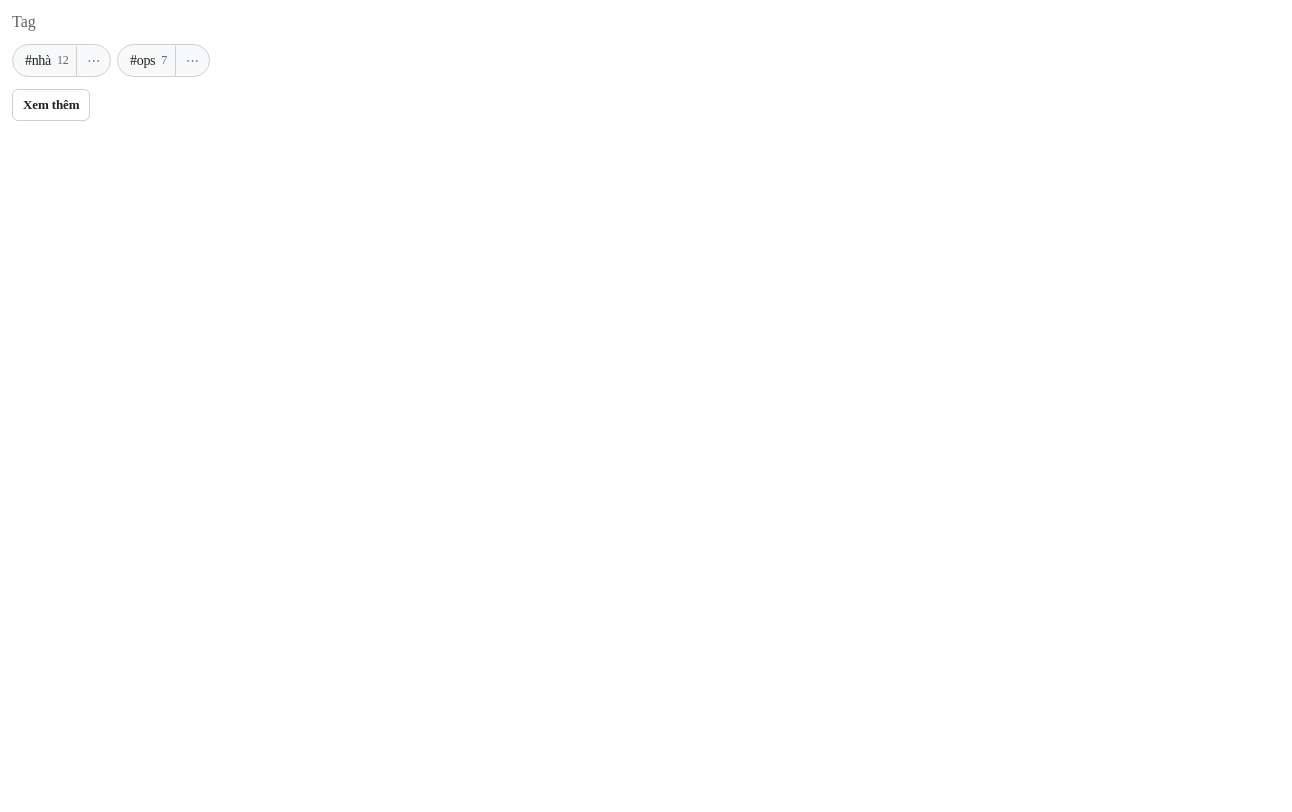
Scenario: Rail › xoá một tag nằm ở trang tải thêm (extra page) sẽ reset extra pages, ẩn chip vừa xoá và hiện lại nút Xem thêm (HM19-R4-1)
The image size is (1292, 812).
Click the button with test id "rail-tags-load-more" at (51, 105), box [12,89,90,121]
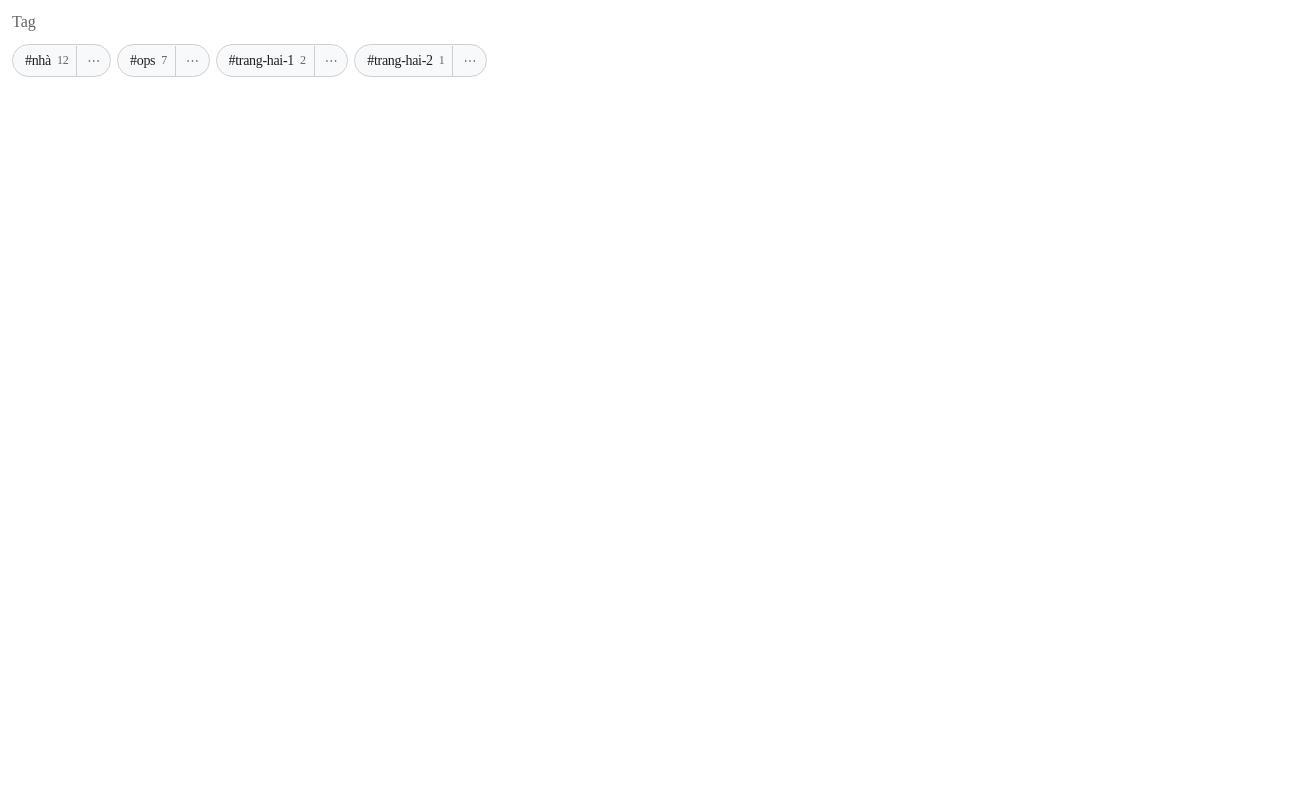
Expected: the text "#trang-hai-1" is shown, [229,51,294,70]
Expected: the text "#trang-hai-2" is shown, [367,51,433,70]
Expected: the button with test id "rail-tags-load-more" is gone
Click the 3rd button "⋯" at (330, 61), box [314,46,347,76]
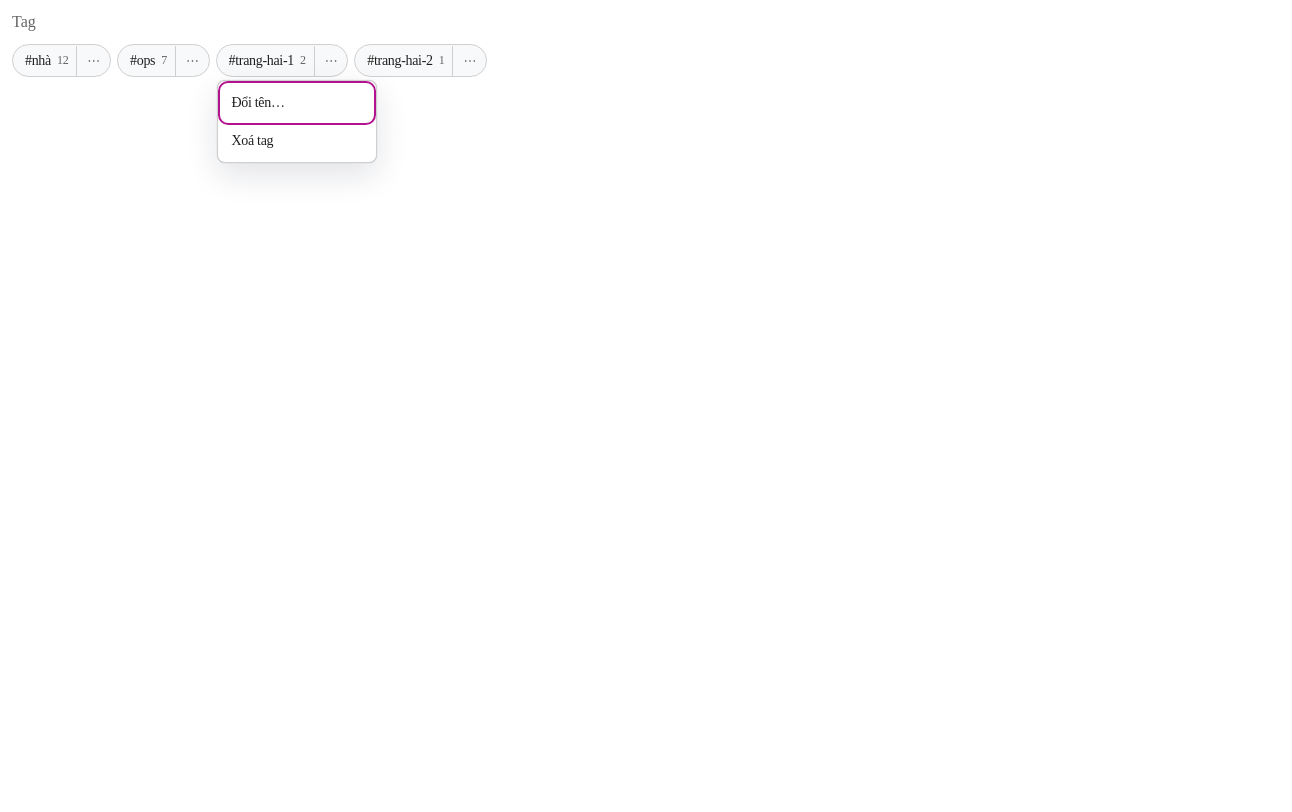
Click the menu item "Xoá tag" at (297, 140), box [222,122,372,158]
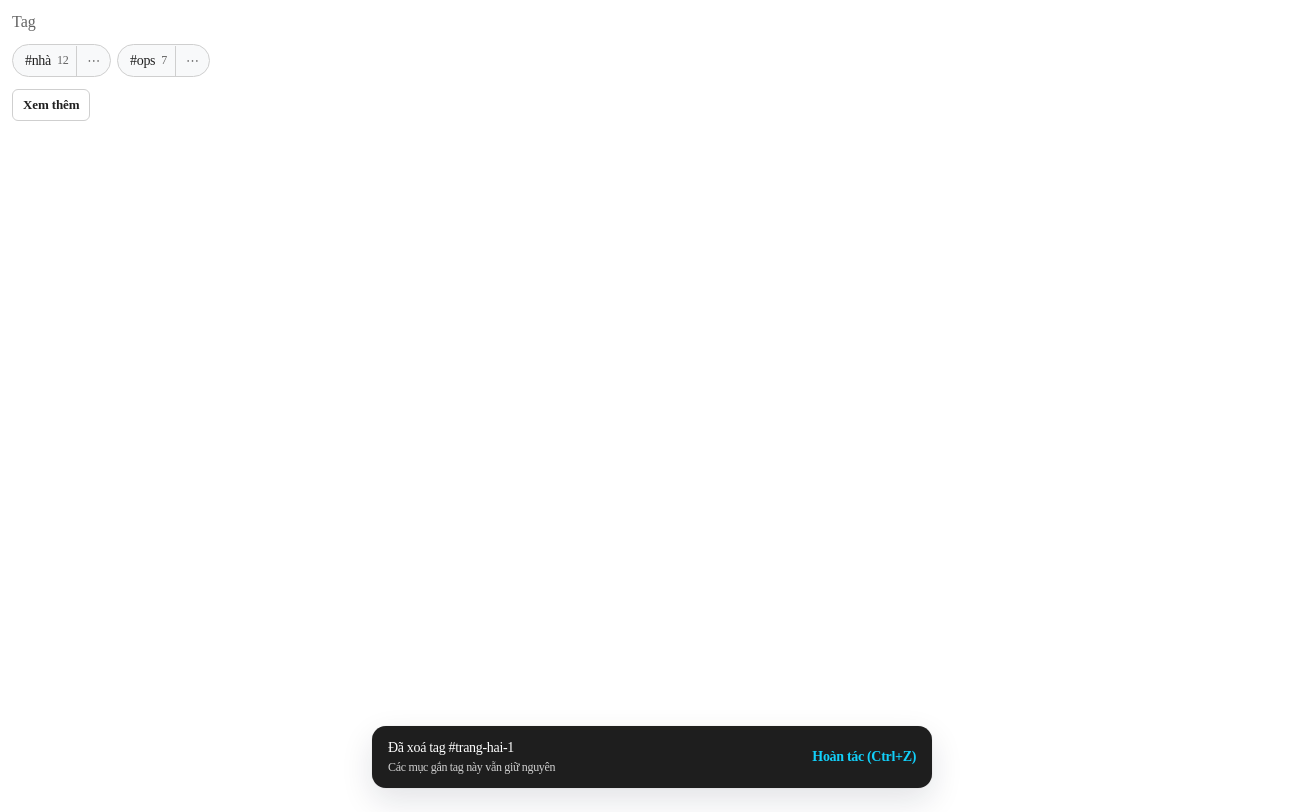
Expected: the button with test id "rail-tags-load-more" is shown, [12,89,90,121]
